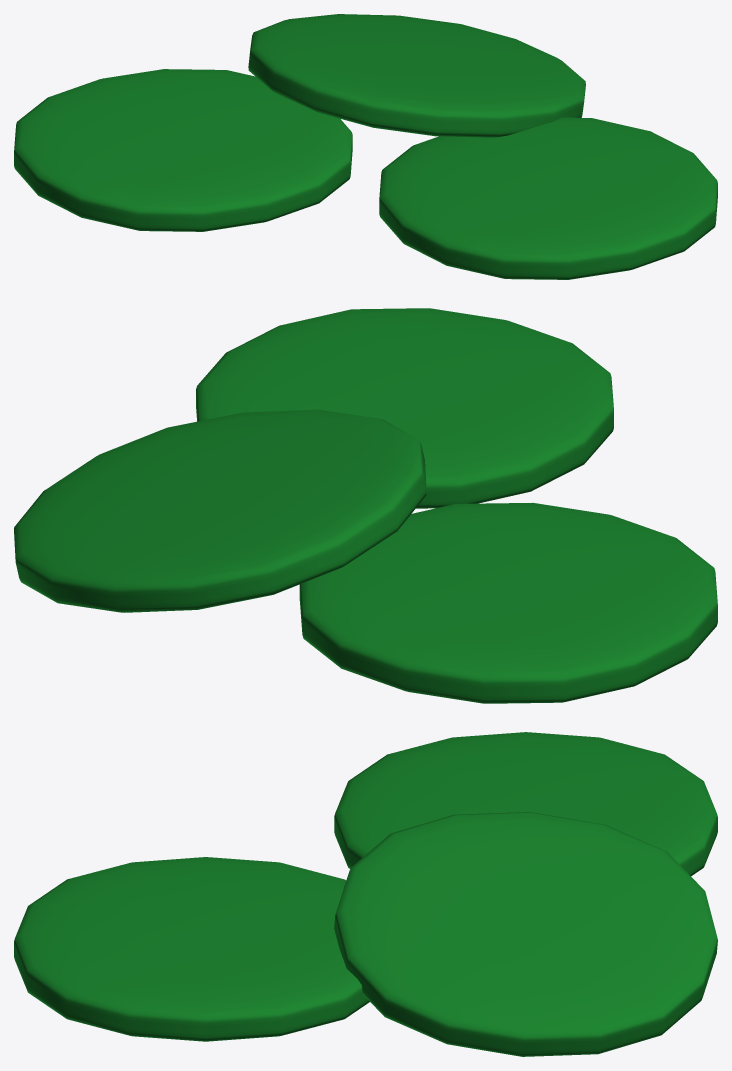
Rendered from Pickle.glb.
3 renders of one model, top to bottom at view 1: azimuth 30°, elevation 25°; view 2: azimuth 150°, elevation 25°; view 3: azimuth 270°, elevation 25°, orthographic. The views are drawn at different scales.
Visible parts, largest first — view 1: Pepinillo1, Pepinillo3, Pepinillo2; view 2: Pepinillo1, Pepinillo2, Pepinillo3; view 3: Pepinillo2, Pepinillo3, Pepinillo1.
Boxes of the visible parts, x1,y1,x2,y2 form: Pepinillo1: [14, 69, 352, 231]; Pepinillo3: [379, 117, 717, 279]; Pepinillo2: [248, 14, 585, 137]; Pepinillo1: [299, 502, 717, 703]; Pepinillo2: [14, 409, 426, 612]; Pepinillo3: [196, 308, 613, 508]; Pepinillo2: [334, 812, 717, 1056]; Pepinillo3: [14, 857, 369, 1041]; Pepinillo1: [334, 732, 717, 876].
Bounding box in the file's own units: 1.19 × 0.1871 × 1.22.
